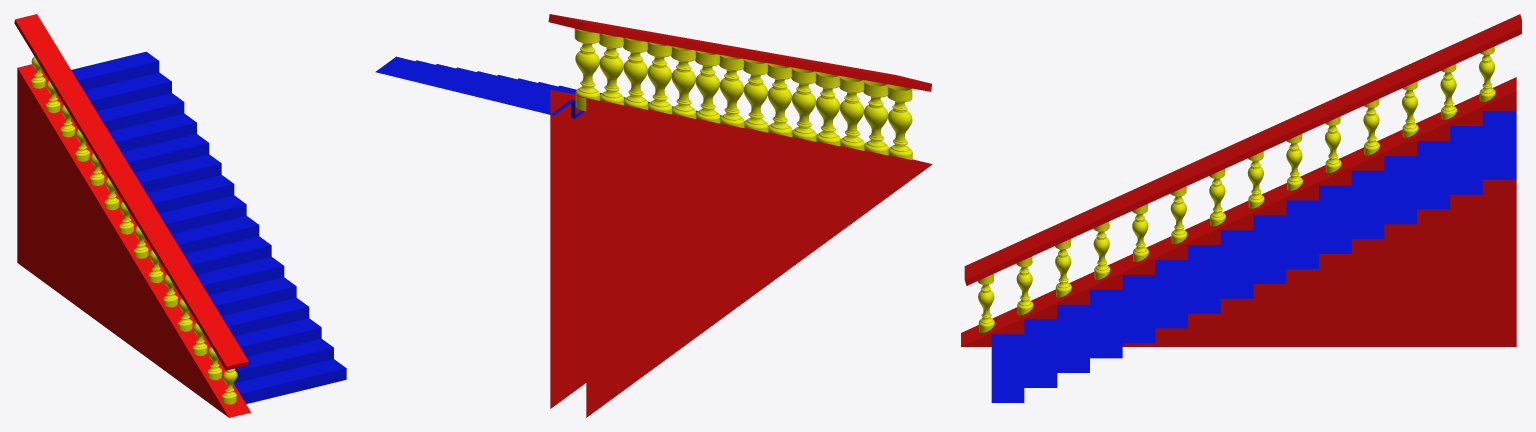
Rendered from Escalier Coter Gauchefbx.fbx.
3 views of the same model, side by side, from view 1: azimuth 30°, elevation 25°; view 2: azimuth 150°, elevation 25°; view 3: azimuth 270°, elevation 25° (orthographic). The views are drawn at different scales.
Visible parts, largest first — view 1: NSM_Escalier.008; view 2: NSM_Escalier.008; view 3: NSM_Escalier.008.
Part boxes in pixels (x1,y1,x2,y2): NSM_Escalier.008: (14, 14, 346, 417); NSM_Escalier.008: (375, 14, 932, 417); NSM_Escalier.008: (961, 14, 1521, 402).
Size of the model in its own units: 225 by 404 by 640.
